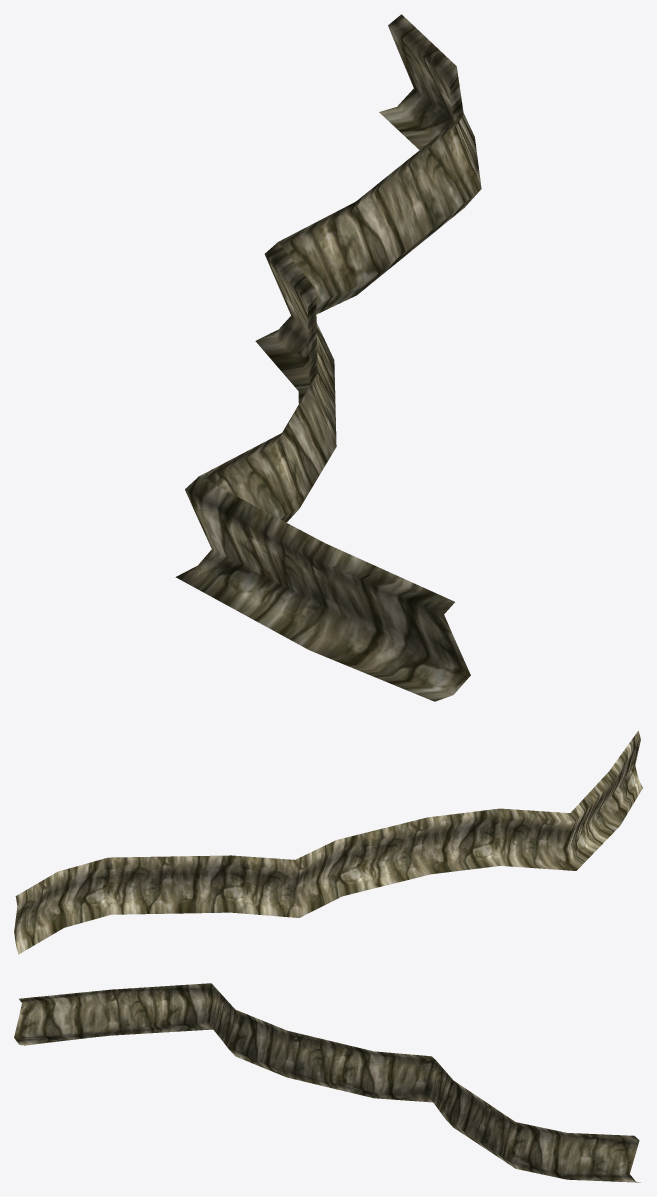
The model's file is CB_NEWPLAYSURFACE_CB_PLAYSURFACE97.fbx.
3 renders of one model, top to bottom at view 1: azimuth 30°, elevation 25°; view 2: azimuth 150°, elevation 25°; view 3: azimuth 270°, elevation 25°, orthographic. The views are drawn at different scales.
Parts seen in each view (by area): view 1: CB_NEWPLAYSURFACE_CB_PLAYSURFACE97; view 2: CB_NEWPLAYSURFACE_CB_PLAYSURFACE97; view 3: CB_NEWPLAYSURFACE_CB_PLAYSURFACE97.
Part boxes in pixels (x1=…): CB_NEWPLAYSURFACE_CB_PLAYSURFACE97: x1=175, y1=14, x2=481, y2=701; CB_NEWPLAYSURFACE_CB_PLAYSURFACE97: x1=14, y1=730, x2=642, y2=954; CB_NEWPLAYSURFACE_CB_PLAYSURFACE97: x1=14, y1=983, x2=640, y2=1182.
Bounding box in the file's own units: 238928 × 35371 × 399914.
1 material, 1 textured.
